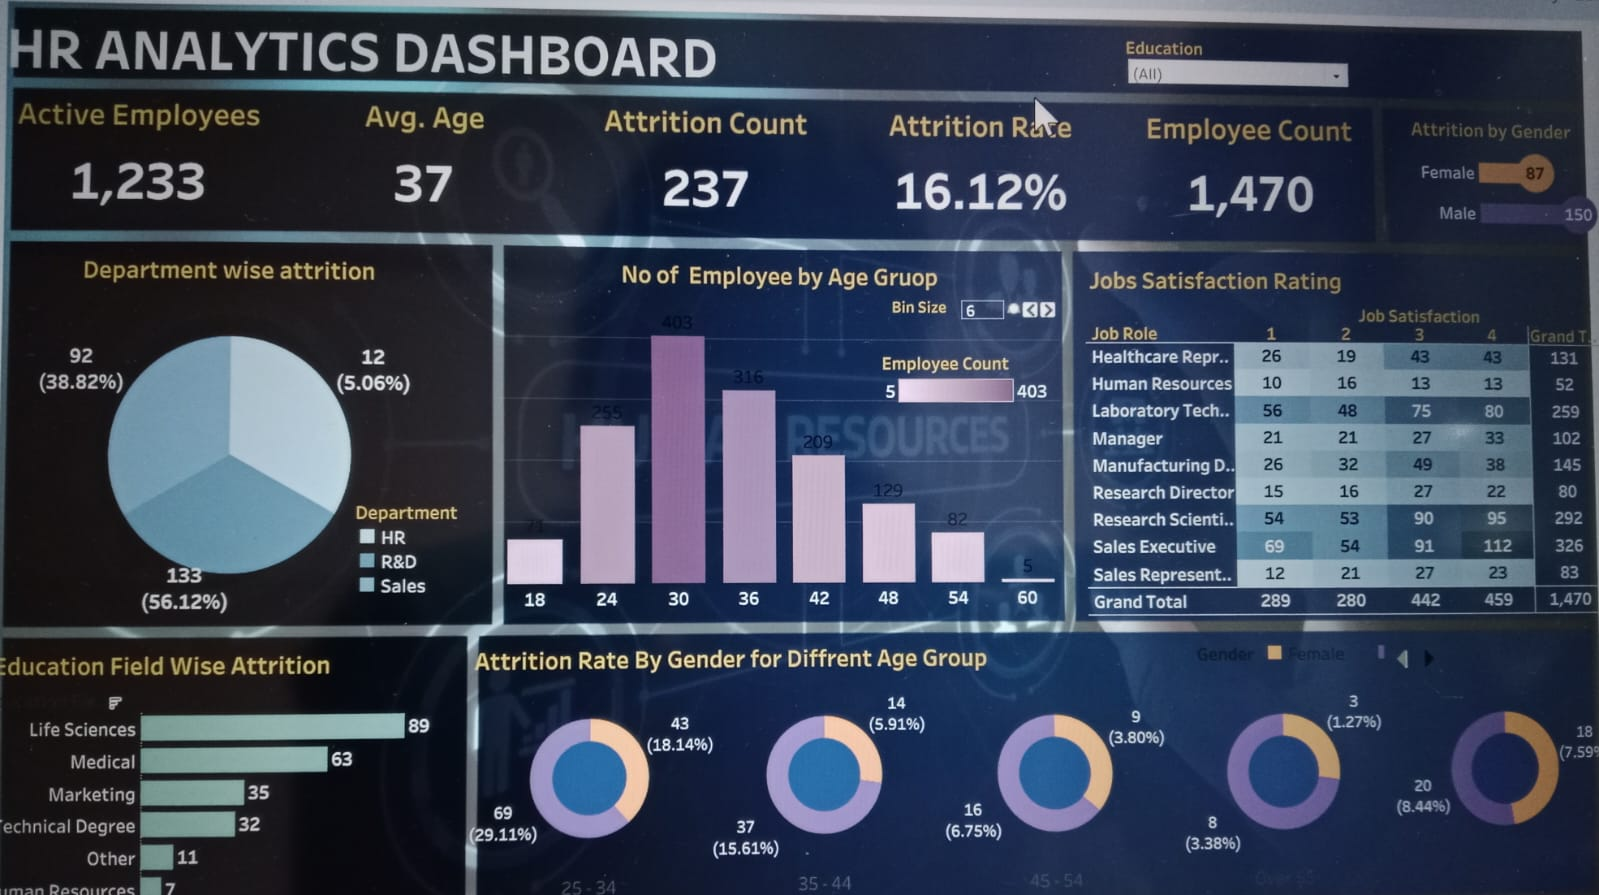

What the dashboard file says about the page in this screenshot:
{"tool":"tableau","page":{"name":"Dashboard 1","canvas":[1000,1000],"units":"permille","ordinal":0},"visuals":[{"type":"image","param":"D:/KB/tablue/hrDashboard/HR background.pptx.png","box":[5,8.9,989.9,982.2]},{"type":"filter","title":"Attrition Rate By Gender for Diffrent Age Group","param":"[federated.0s3dyzy16fgqoj1g3h2dv03if782].[none:Education:nk]","box":[685.1,30,140.4,53.3]},{"type":"text","box":[22.7,32.2,622.8,57.8]},{"type":"worksheet","title":"Attrition by Gender","mark":"Automatic","rows":["Gender"],"cols":["Calculation_88383183698640896","Calculation_88383183698640896"],"box":[860.8,110,124.1,141.1]},{"type":"worksheet","title":" KPI","mark":"Automatic","box":[19.5,112.2,824.3,142.2]},{"type":"worksheet","title":"No of  Employee by Age Gruop ","mark":"Automatic","rows":["Employee Count"],"cols":["Age (bin)"],"box":[309.8,277.8,335,386.7]},{"type":"worksheet","title":"Department wise attrition ","mark":"Pie","box":[17,278.9,279,387.8]},{"type":"worksheet","title":"Jobs Satisfaction Rating","mark":"Square","rows":["Job Role"],"cols":["Job Satisfaction"],"box":[659.3,281.1,320.5,391.1]},{"type":"parameter","param":"[Parameters].[Parameter 2]","box":[542.2,322.2,100.8,36.7]},{"type":"legend","title":"No of  Employee by Age Gruop ","param":"[federated.0s3dyzy16fgqoj1g3h2dv03if782].[sum:Employee Count:qk]","box":[535.9,380,102.6,74.4]},{"type":"legend","title":"Department wise attrition ","param":"[federated.0s3dyzy16fgqoj1g3h2dv03if782].[none:Department:nk]","box":[228,544.4,66.8,126.7]},{"type":"worksheet","title":"Attrition Rate By Gender for Diffrent Age Group","mark":"Pie","rows":["Calculation_1215971940694347777","Calculation_1215971940694347777"],"cols":["CF_age band"],"box":[294.1,695.6,688.3,274.4]},{"type":"worksheet","title":" Education Field Wise Attrition","mark":"Automatic","rows":["Education Field"],"cols":["Calculation_88383183698640896"],"box":[18.3,697.8,263.2,272.2]},{"type":"legend","title":"Attrition Rate By Gender for Diffrent Age Group","param":"[federated.0s3dyzy16fgqoj1g3h2dv03if782].[none:Gender:nk]","box":[724.2,700,151.1,40]}]}

Visuals, with their boxes on the dashboard's canvas, which has no fixed pixel size, in thousandths of its width and height (x1, y1, x2, y2). These are canvas units, not pixel positions in the 1599x895 screenshot, which may show the page scaled, cropped or inside an application window:
image: bbox(5, 9, 995, 991)
"Attrition Rate By Gender for Diffrent Age Group" filter: bbox(685, 30, 826, 83)
text: bbox(23, 32, 646, 90)
"Attrition by Gender" worksheet: bbox(861, 110, 985, 251)
" KPI" worksheet: bbox(20, 112, 844, 254)
"No of  Employee by Age Gruop " worksheet: bbox(310, 278, 645, 664)
"Department wise attrition " worksheet (Pie marks): bbox(17, 279, 296, 667)
"Jobs Satisfaction Rating" worksheet (Square marks): bbox(659, 281, 980, 672)
parameter: bbox(542, 322, 643, 359)
"No of  Employee by Age Gruop " legend: bbox(536, 380, 638, 454)
"Department wise attrition " legend: bbox(228, 544, 295, 671)
"Attrition Rate By Gender for Diffrent Age Group" worksheet (Pie marks): bbox(294, 696, 982, 970)
" Education Field Wise Attrition" worksheet: bbox(18, 698, 282, 970)
"Attrition Rate By Gender for Diffrent Age Group" legend: bbox(724, 700, 875, 740)
